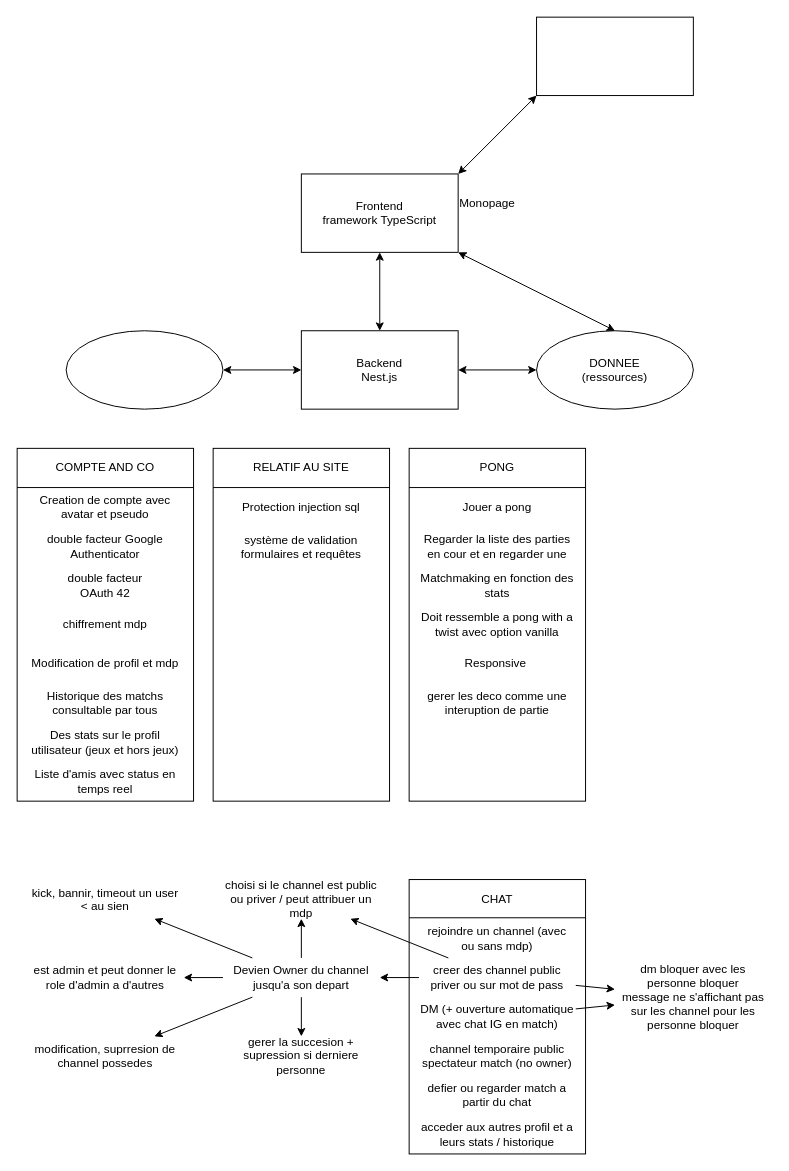
The diagram is 789 pixels wide and 1171 high, and some of its shapes have lost their labels. Each missing label, with the centre of its shape:
"BDD PostgreSQL" goes at pixel 144 369.
"User" goes at pixel 614 56.
